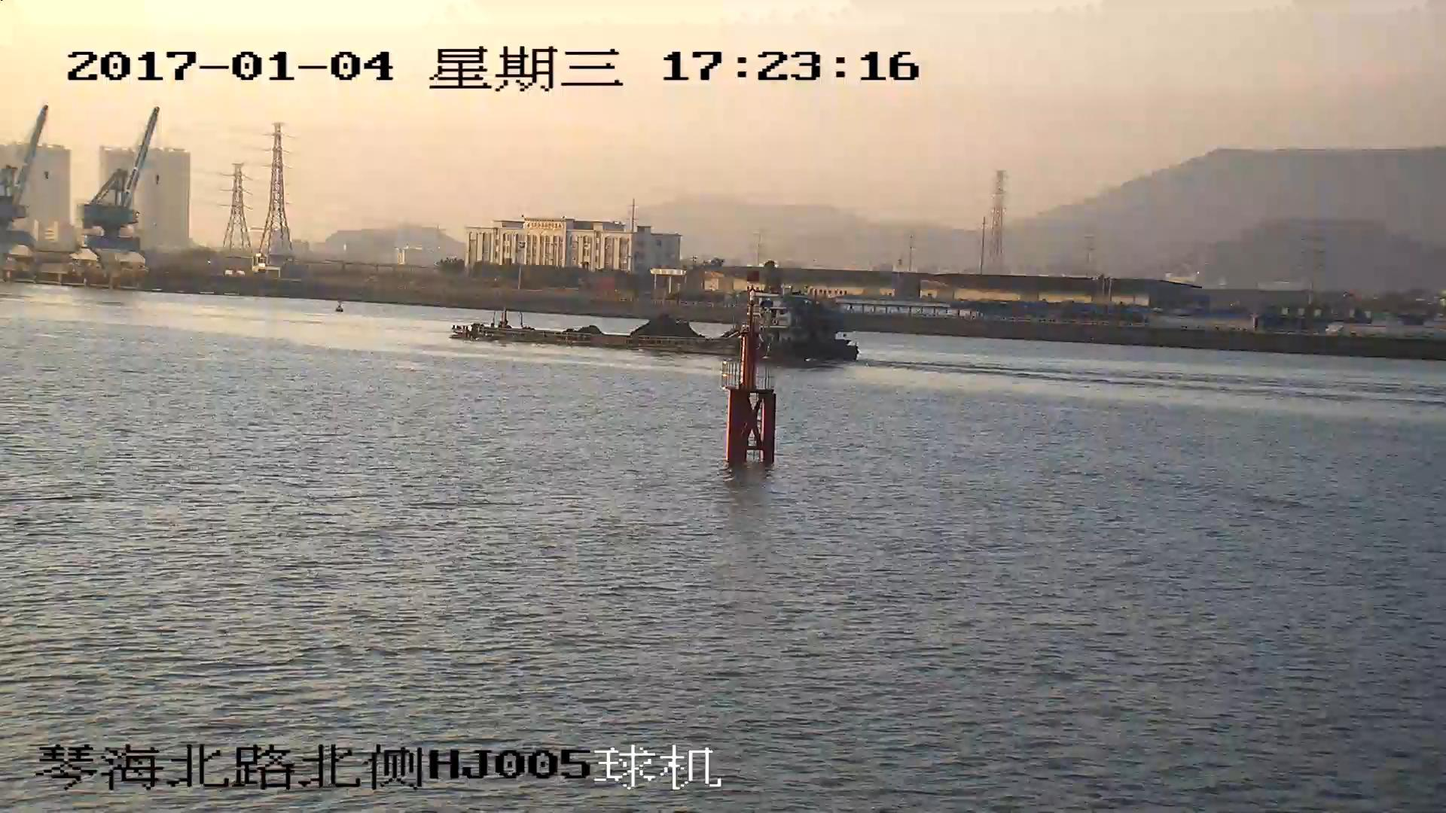ore carrier: (451, 291, 856, 363)
